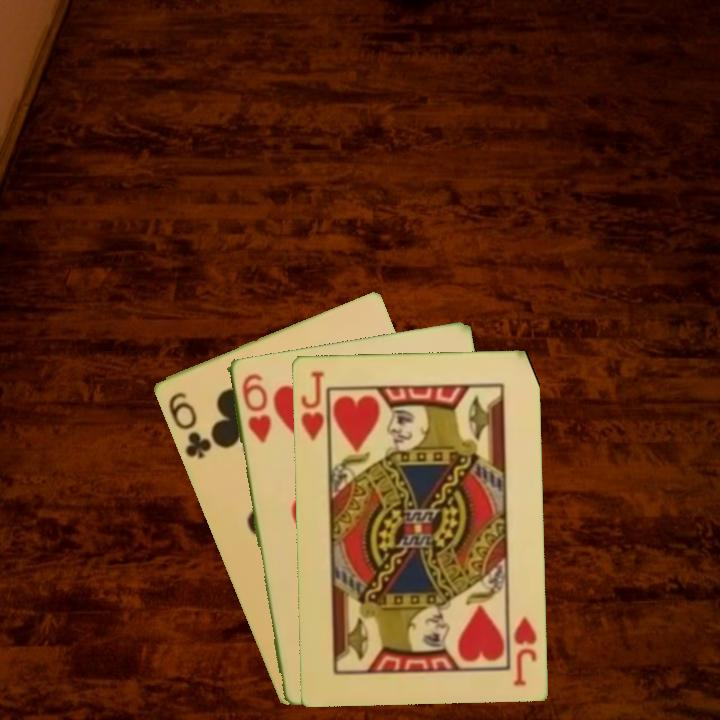6c: (164, 388, 214, 462)
6h: (238, 369, 274, 446)
Jh: (297, 367, 331, 449), (509, 612, 539, 688)
